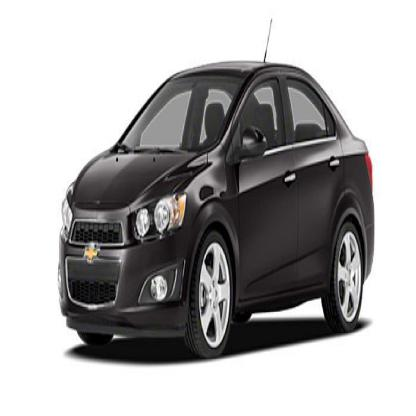Vehicle: (58, 19, 374, 364)
